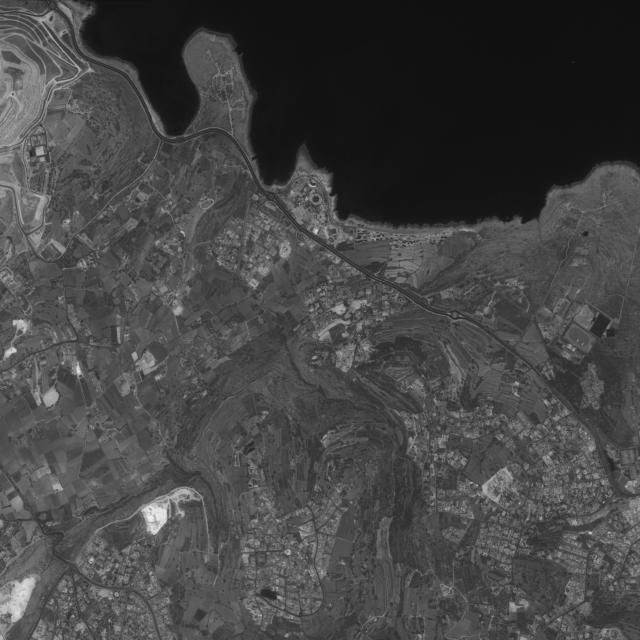storage-tank: (36, 134, 43, 141), (32, 136, 37, 141), (30, 158, 35, 162), (26, 157, 30, 161)
